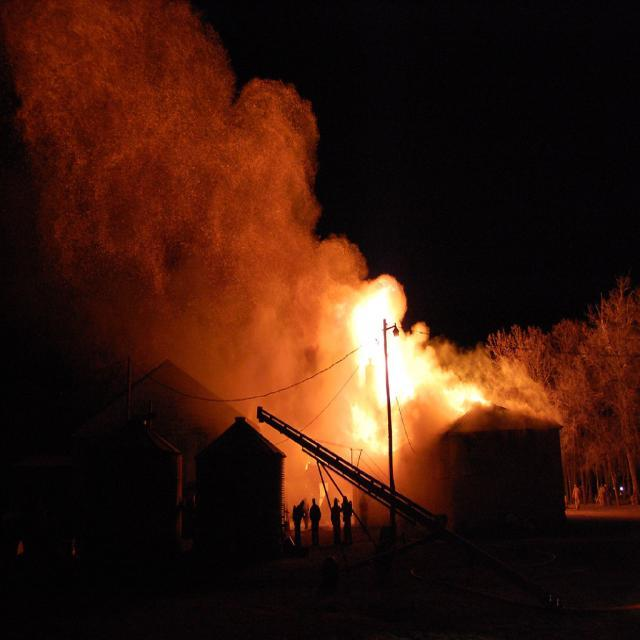Fire: (391, 338, 428, 396), (354, 296, 380, 362)
Smoke: (135, 110, 269, 256)
